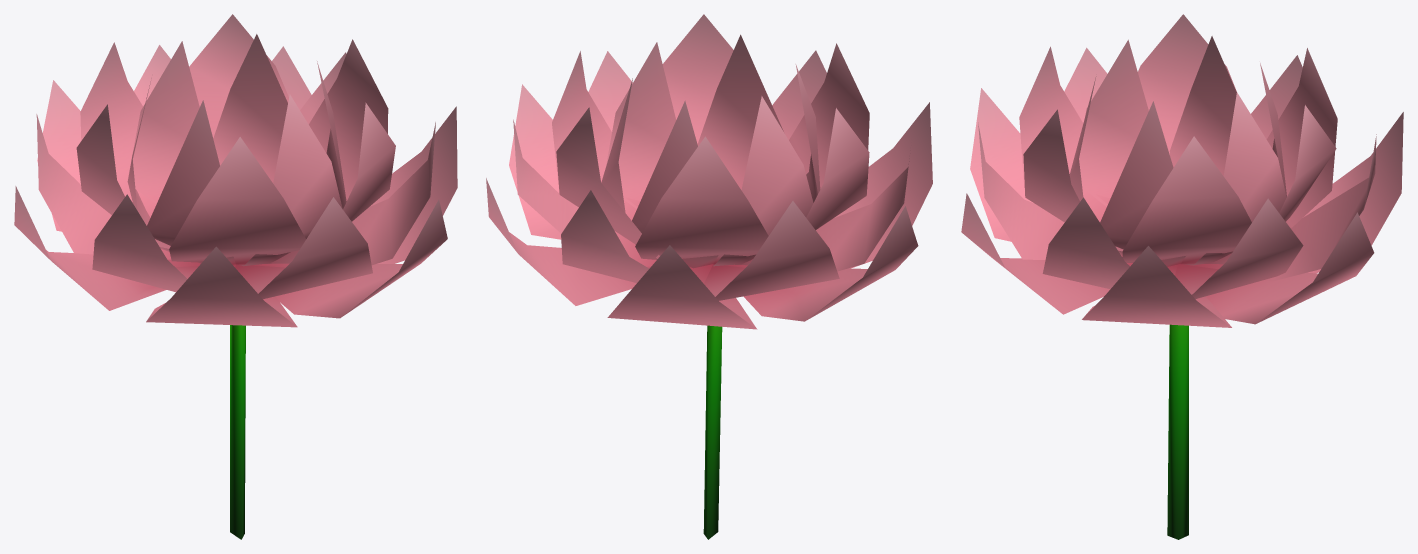
Rendered from flower (14)_LOD2.fbx.
3 views of the same model, side by side, from view 1: azimuth 30°, elevation 25°; view 2: azimuth 150°, elevation 25°; view 3: azimuth 270°, elevation 25° (orthographic).
Parts seen in each view (by area): view 1: 13_f3; view 2: 13_f3; view 3: 13_f3.
Boxes of the visible parts, left/top/right/bottom form: 13_f3: left=14, top=14, right=457, bottom=539; 13_f3: left=486, top=14, right=932, bottom=539; 13_f3: left=961, top=14, right=1403, bottom=539.
Size of the model in its own units: 106 by 115 by 98.81.
